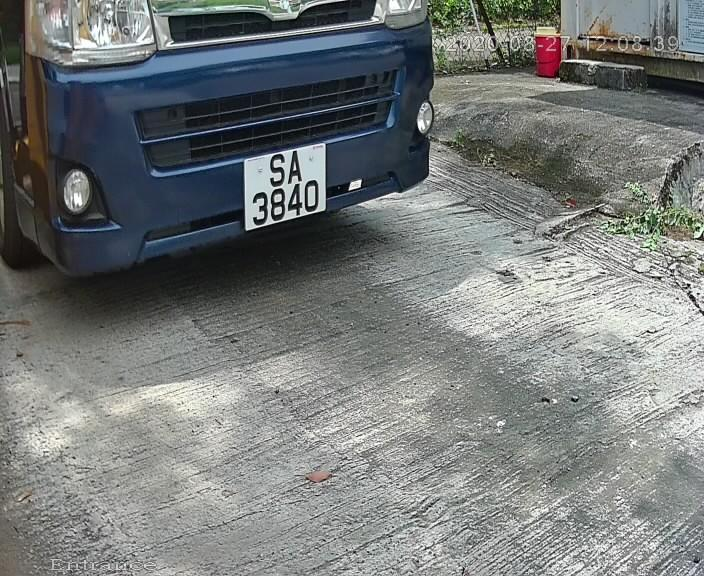License Plate: (233, 137, 337, 235)
